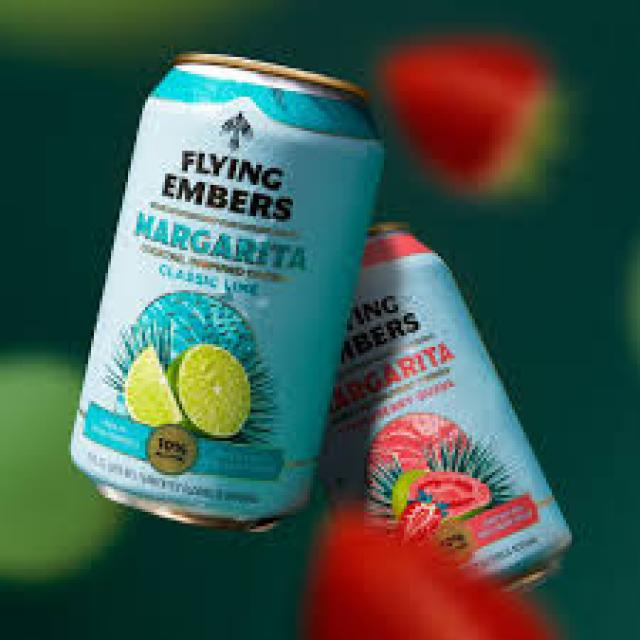Cans: (62, 46, 392, 544)
